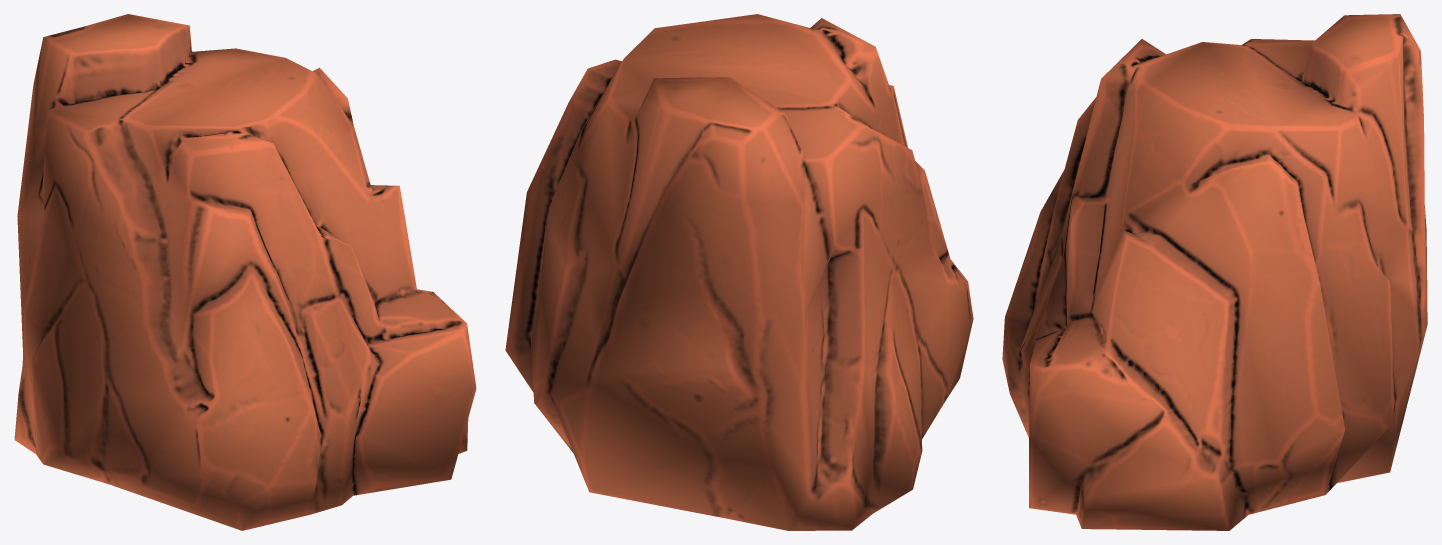
Rendered from rock_14.fbx.
3 renders of one model, left to right at view 1: azimuth 30°, elevation 25°; view 2: azimuth 150°, elevation 25°; view 3: azimuth 270°, elevation 25°, orthographic. The views are drawn at different scales.
Visible parts, largest first — view 1: rock_14; view 2: rock_14; view 3: rock_14.
Part boxes in pixels (bbox=[...]): rock_14: bbox=[14, 14, 476, 530]; rock_14: bbox=[505, 14, 973, 530]; rock_14: bbox=[1002, 14, 1427, 530].
Size of the model in its own units: 196 by 200 by 201.
